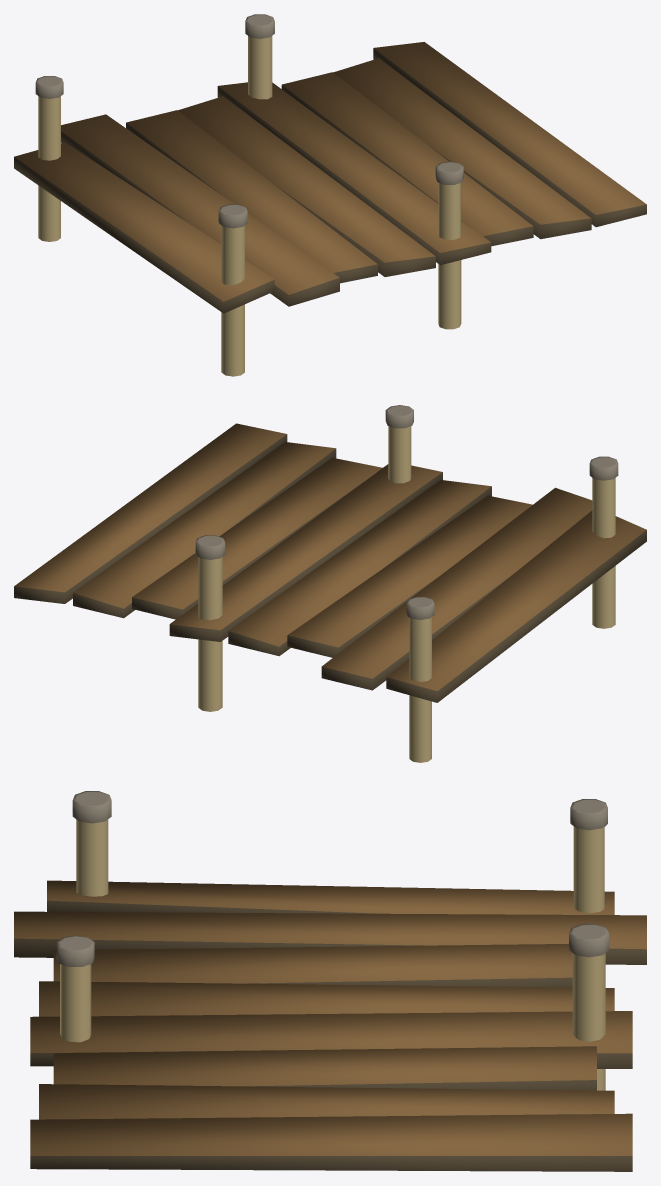
File: Docks.glb
3 views of the same model, one above another, from view 1: azimuth 30°, elevation 25°; view 2: azimuth 150°, elevation 25°; view 3: azimuth 270°, elevation 25° (orthographic). The views are drawn at different scales.
Visible parts, largest first — view 1: Docks; view 2: Docks; view 3: Docks.
Boxes of the visible parts, x1,y1,x2,y2 form: Docks: (14,14,646,376); Docks: (14,405,646,762); Docks: (14,791,646,1171).
Size of the model in its own units: 1.91 by 0.7251 by 1.86.
